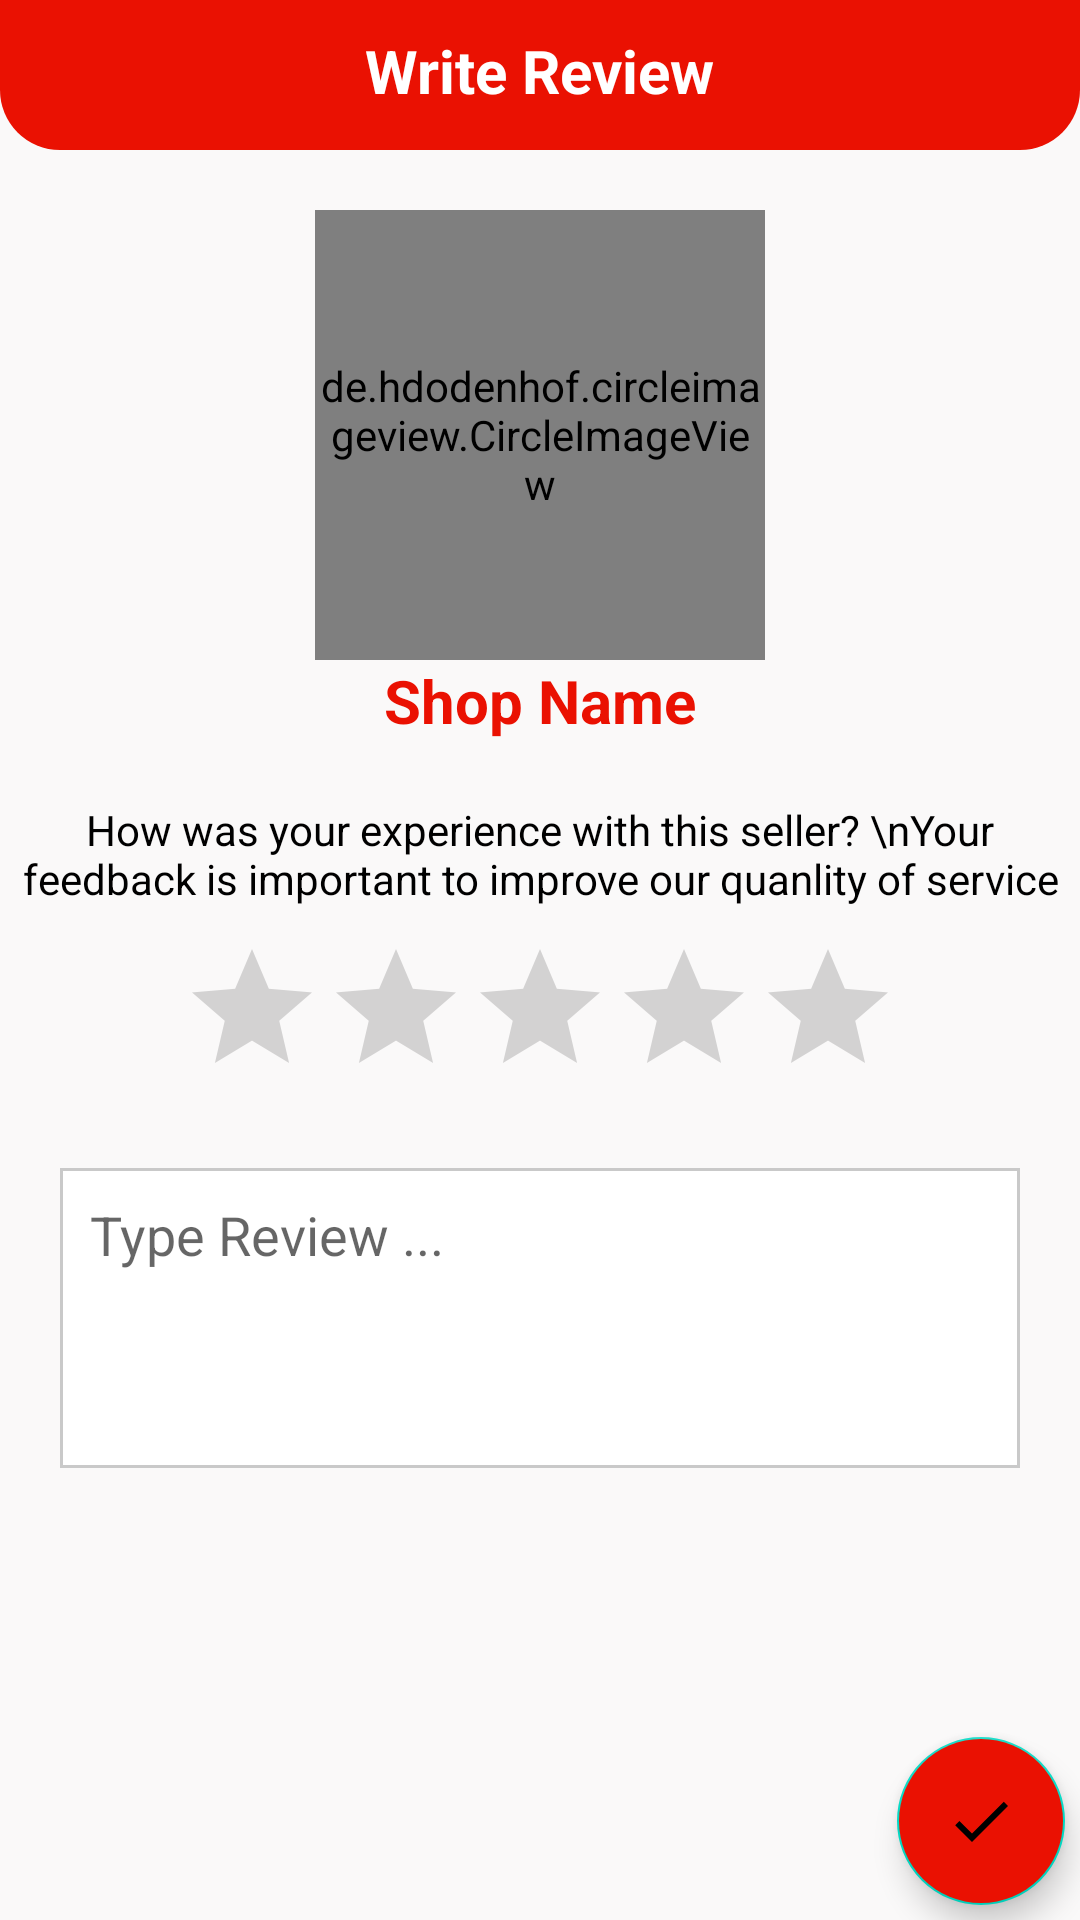

Where to tap for icons on this 1080px x 1920px app screen, as (x=x, y=y):
done: (x=981, y=1821)
